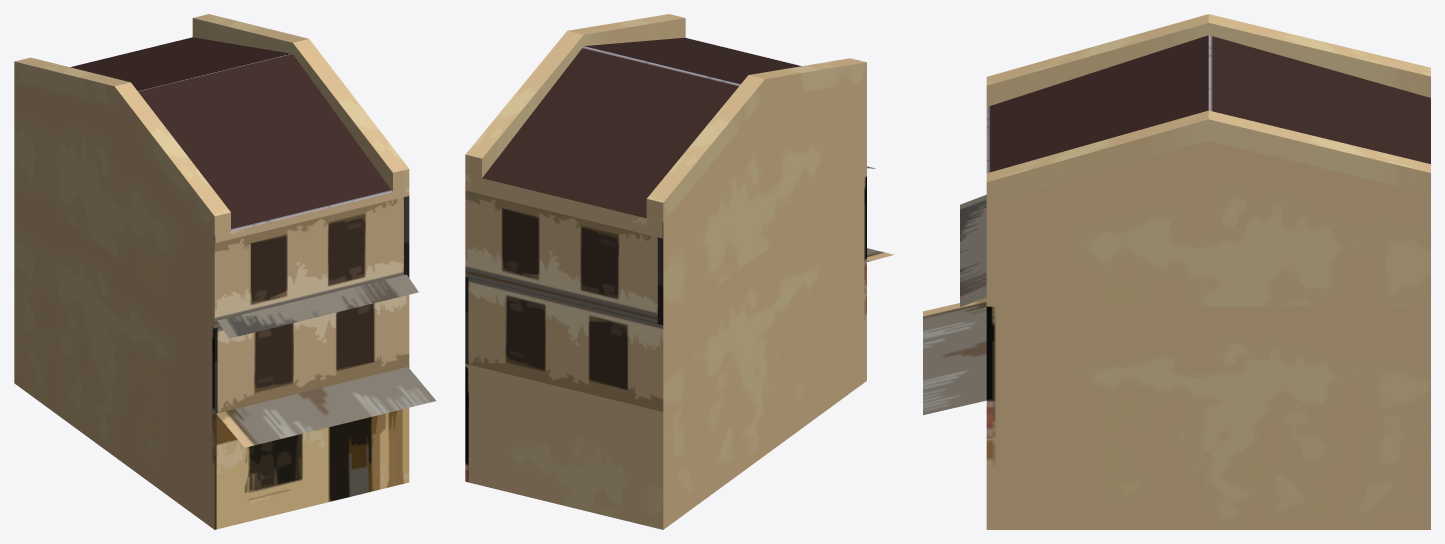
File: SM_Building_Large_05.fbx
The picture shows the model from 3 angles, left to right: view 1: azimuth 30°, elevation 25°; view 2: azimuth 150°, elevation 25°; view 3: azimuth 270°, elevation 25°; orthographic projection. The views are drawn at different scales.
Parts seen in each view (by area): view 1: SM_Building_Large_05_LOD0; view 2: SM_Building_Large_05_LOD0; view 3: SM_Building_Large_05_LOD0.
Part boxes in pixels (x1,y1,x2,y2): SM_Building_Large_05_LOD0: (14, 14, 436, 529); SM_Building_Large_05_LOD0: (465, 14, 893, 529); SM_Building_Large_05_LOD0: (923, 14, 1430, 529).
Size of what is drawn, in the model's own units: 6.07 by 11.03 by 12.36.
